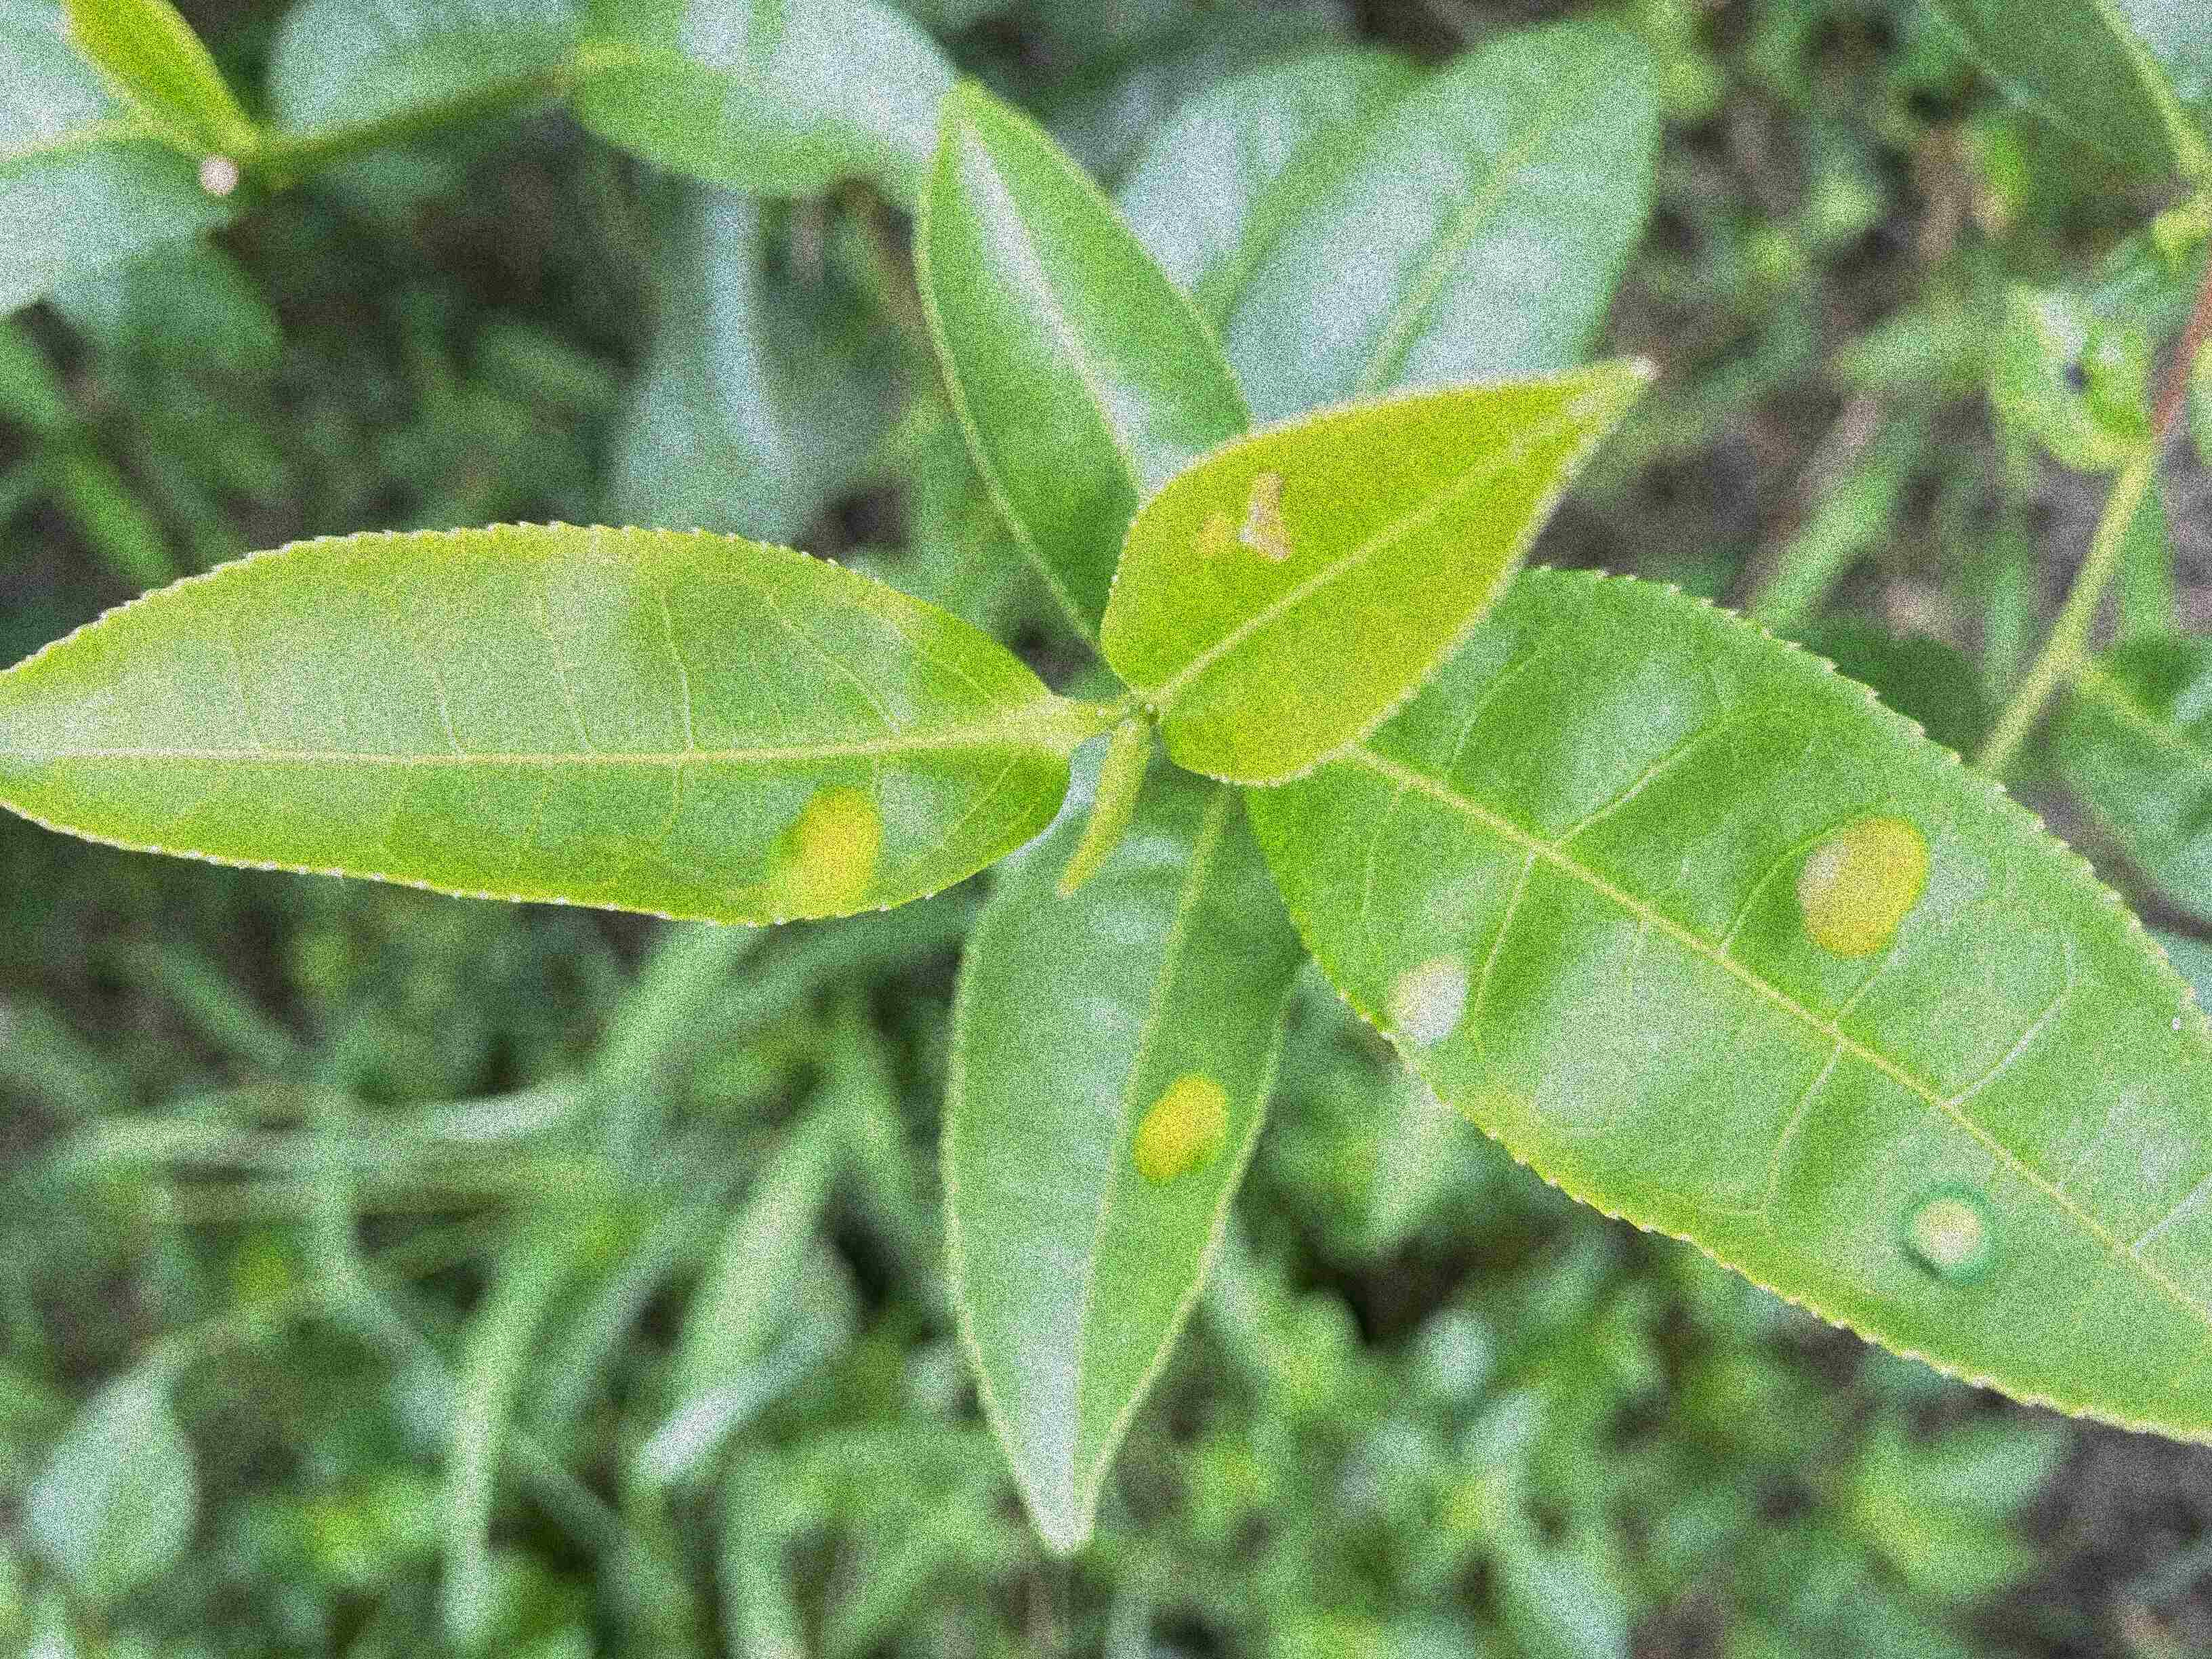chabing_high: (1244, 558, 2209, 1446), (1099, 361, 1653, 789)
chabing_low: (3, 525, 1075, 927), (941, 772, 1305, 1563)
